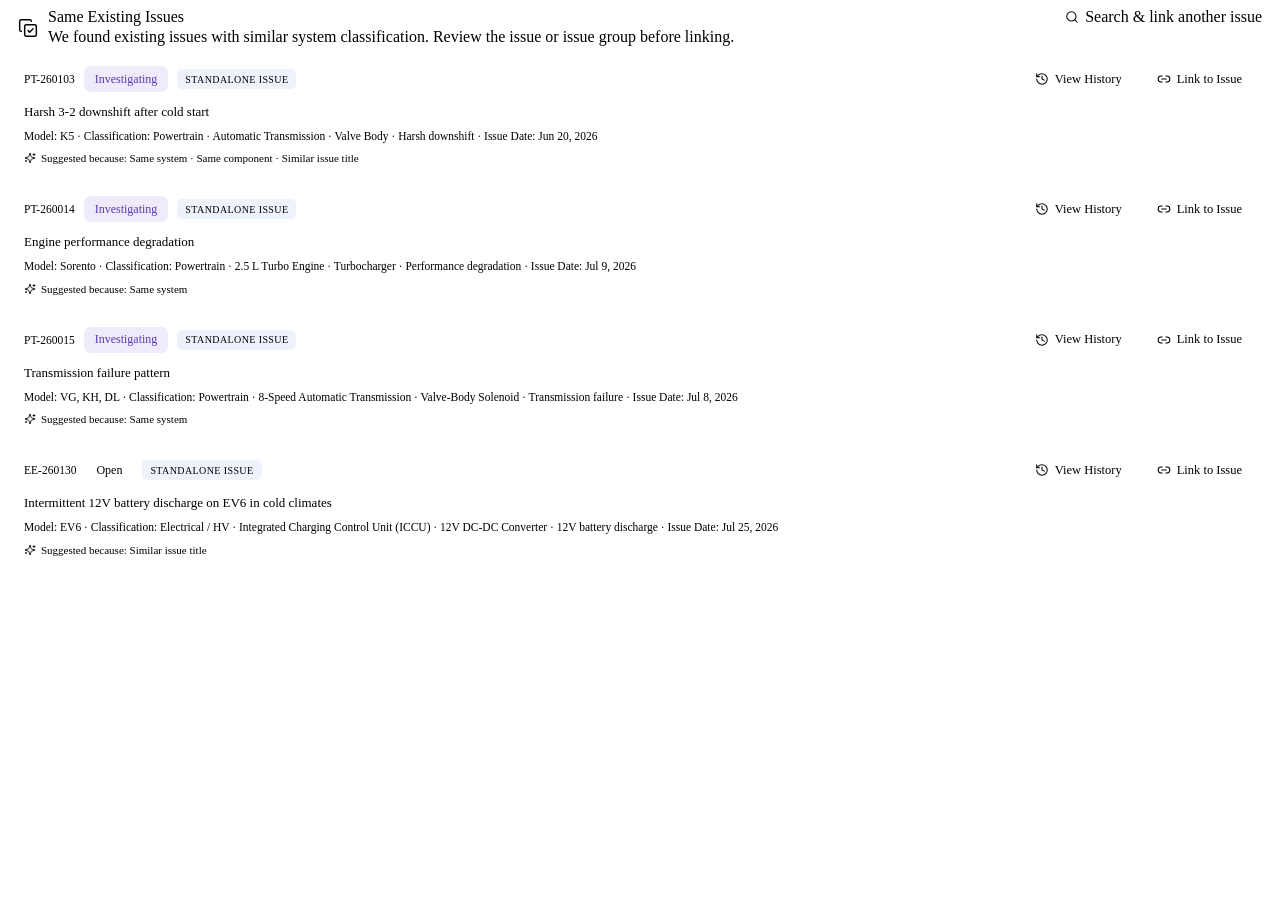
Test: ⚠️ LINKING IS GATED, AND THE CALLER NEVER SEES AN UNJUSTIFIED CHANGE › cancels back without linking
Step 1. Click the button "Search & link another issue" → [1164, 17], box [1055,8,1272,26]
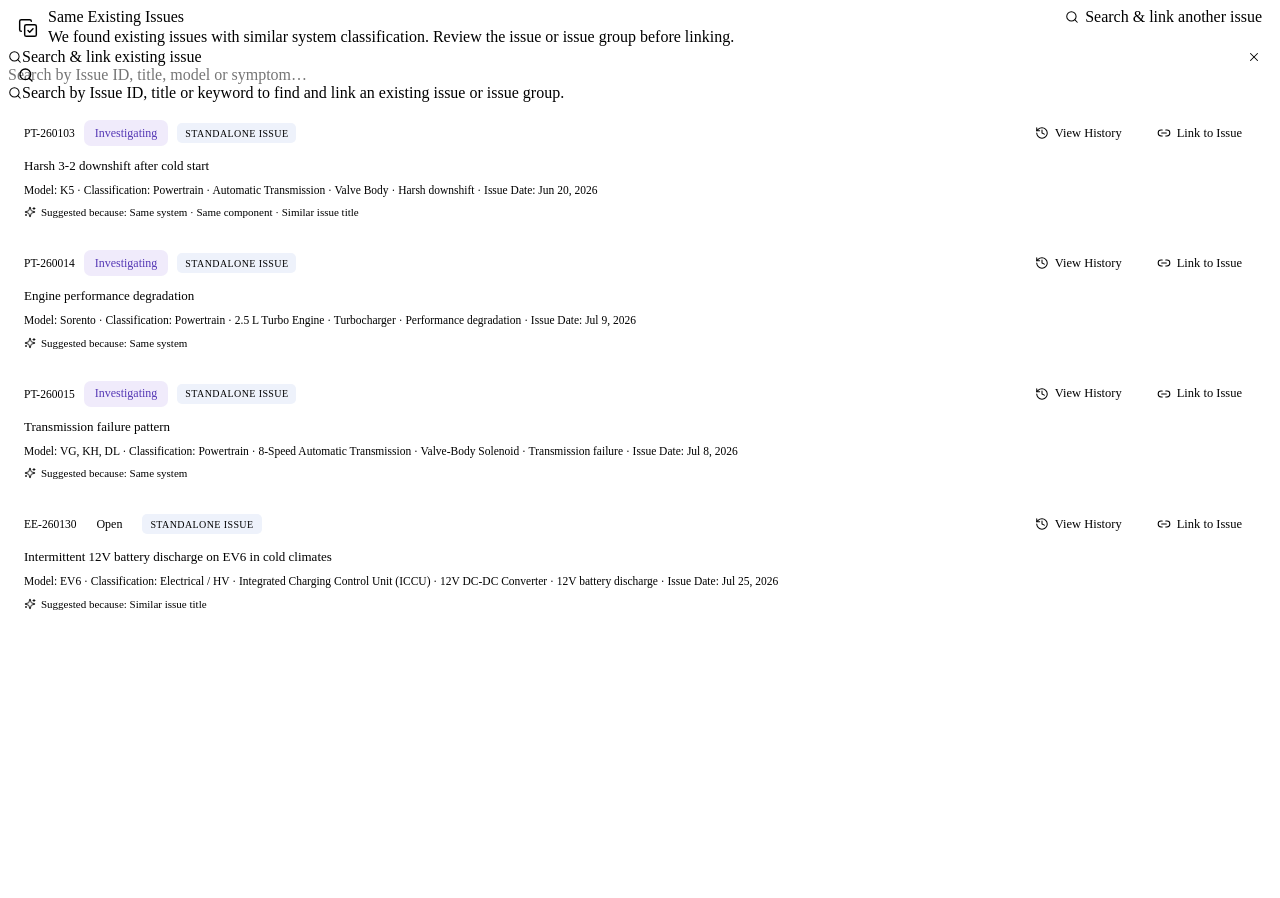
Step 2. Type "EE-2600" into the search field named "search issues to link" → [640, 75], box [8,66,1272,84]
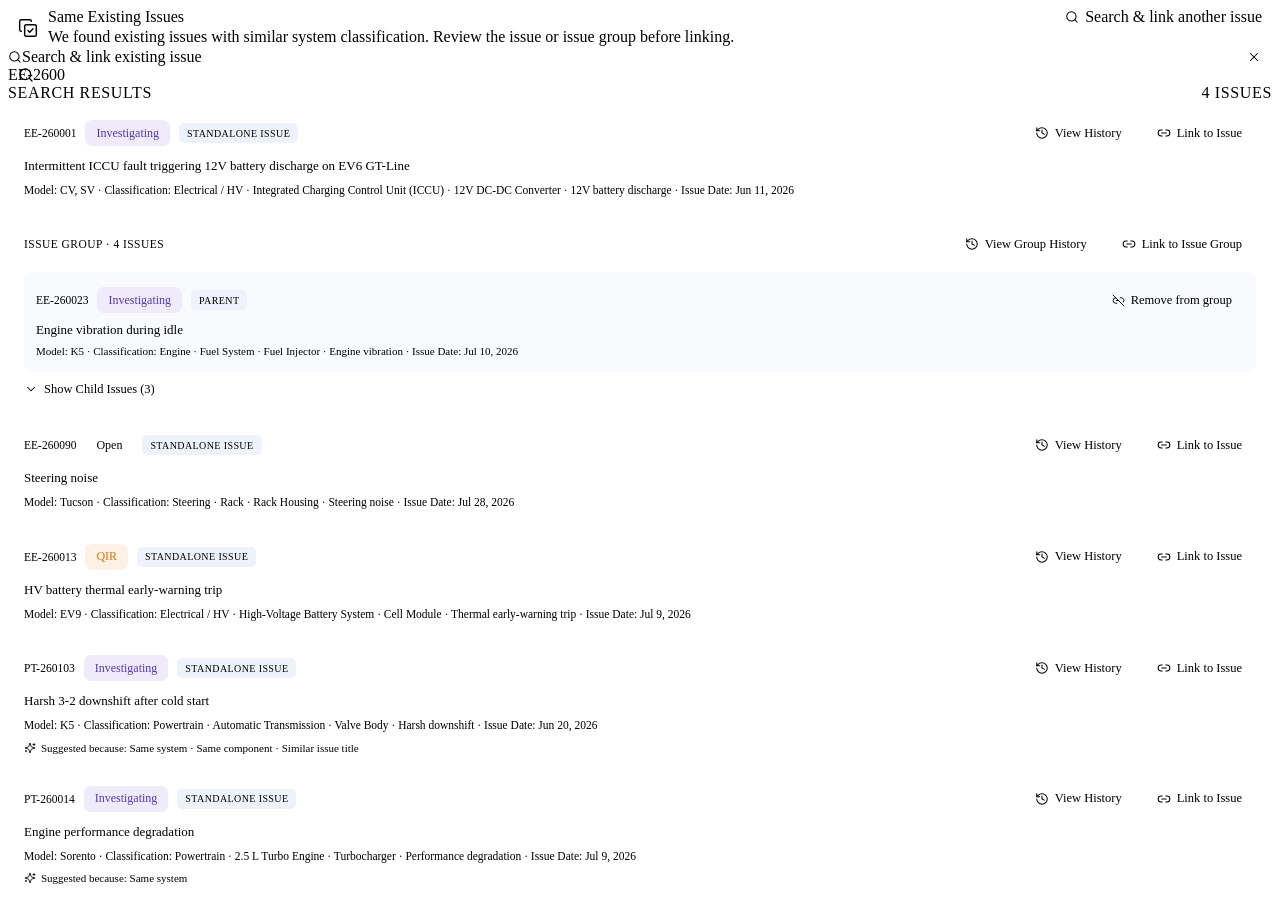
Step 3. Click the button "Link to Issue" in the row of "EE-260001" → [1199, 133], box [1143,116,1256,150]
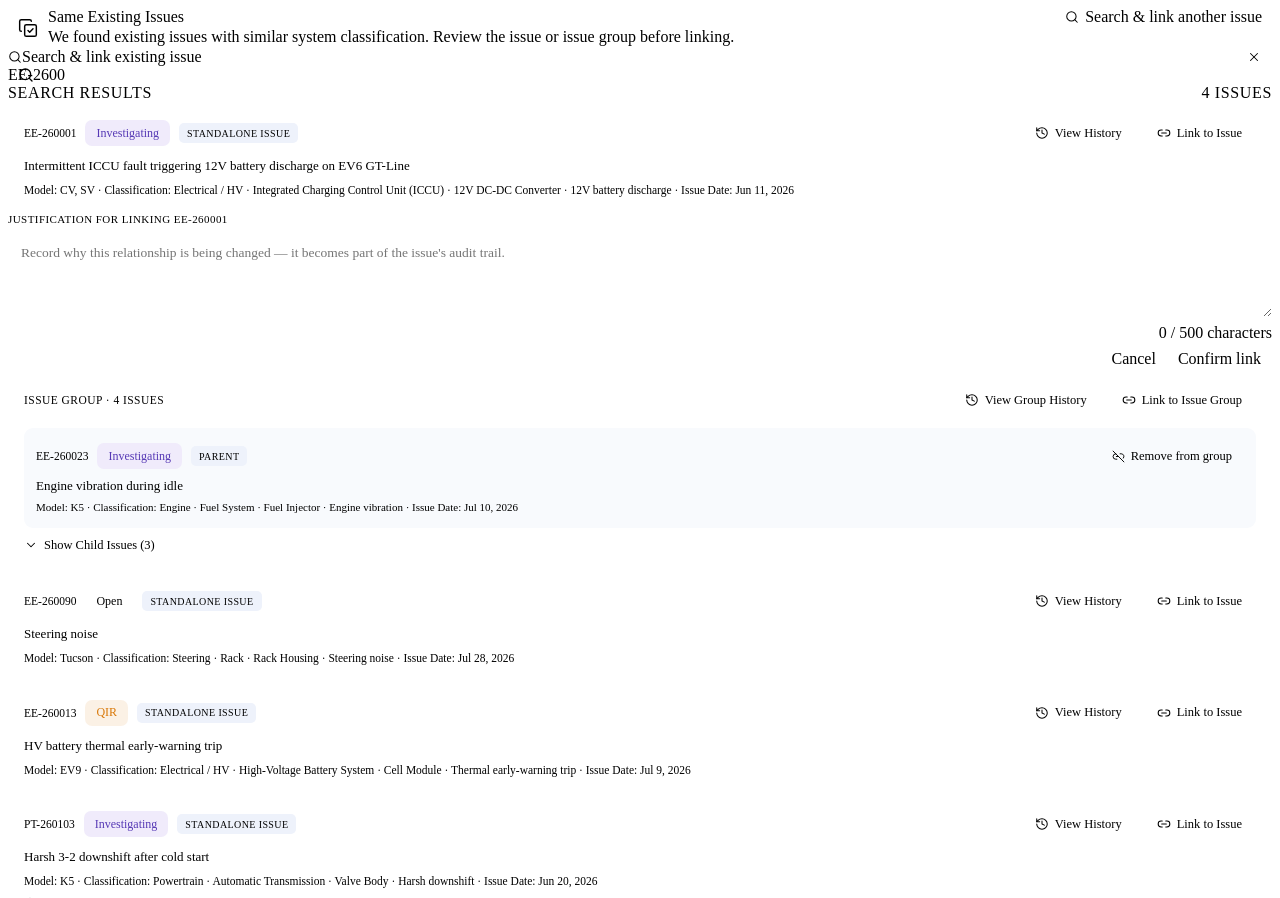
Step 4. Click the button "Cancel" → [1134, 359], box [1100,349,1167,369]
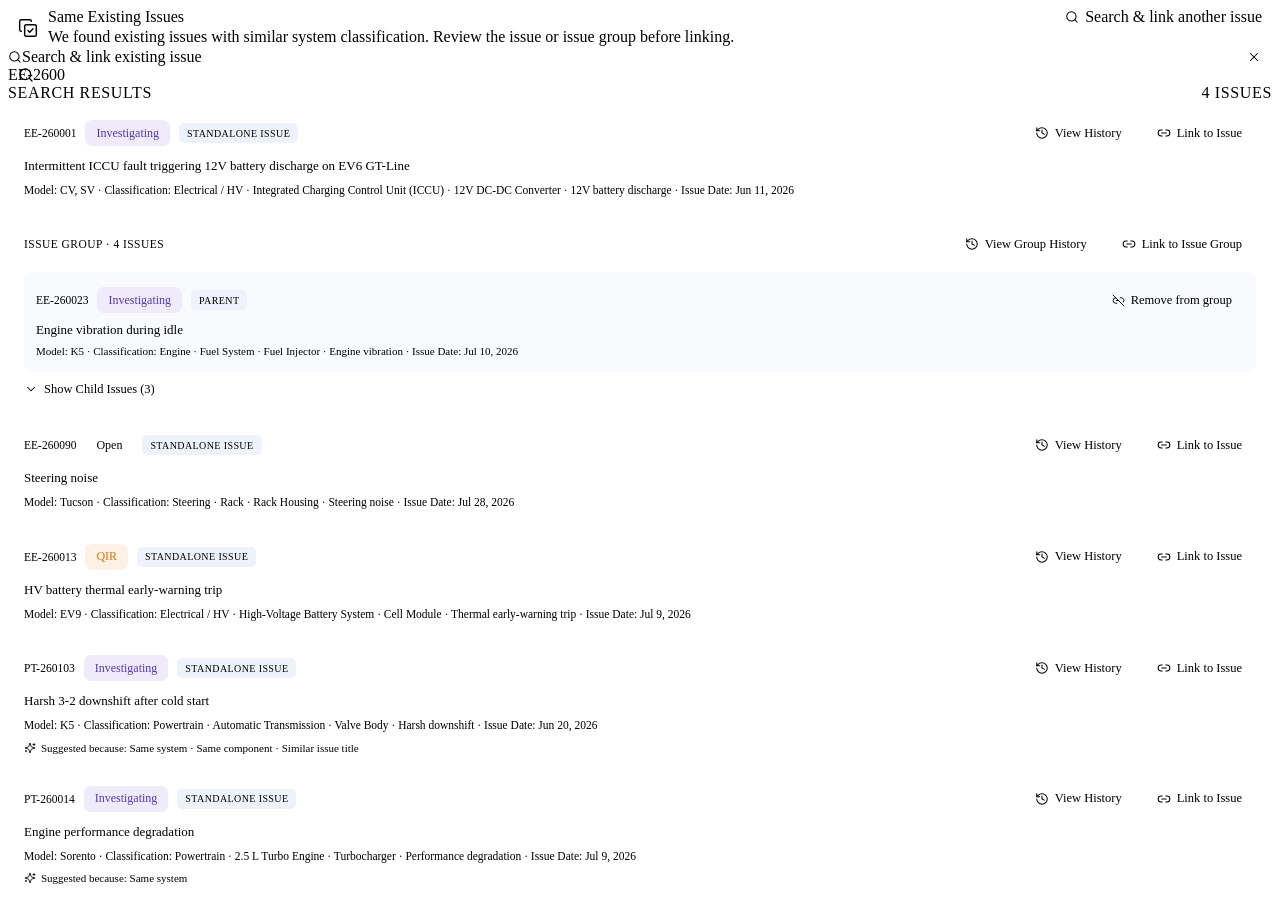
Result: the text "Justification for linking" is gone
